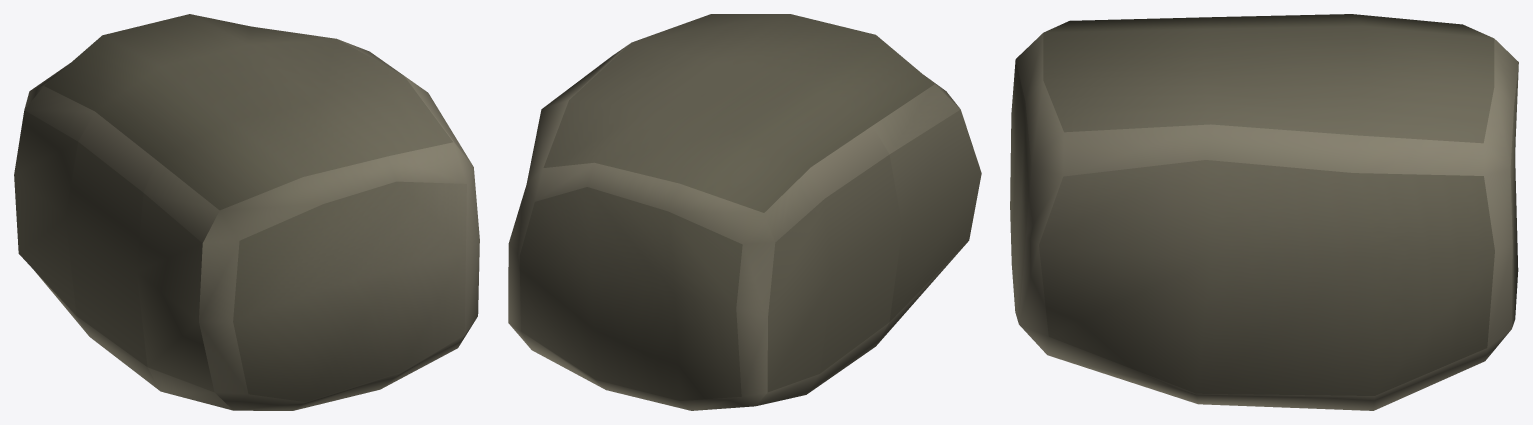
The model's file is resource_stone.fbx.
3 renders of one model, left to right at view 1: azimuth 30°, elevation 25°; view 2: azimuth 150°, elevation 25°; view 3: azimuth 270°, elevation 25°, orthographic. The views are drawn at different scales.
Parts seen in each view (by area): view 1: resource_stone; view 2: resource_stone; view 3: resource_stone.
Part boxes in pixels (bbox=[...]): resource_stone: bbox=[14, 14, 479, 410]; resource_stone: bbox=[508, 14, 981, 410]; resource_stone: bbox=[1010, 14, 1518, 410].
Size of the model in its own units: 65.02 by 52.29 by 78.72.
